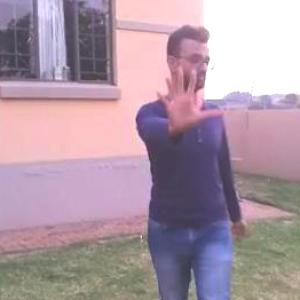follow_hand: (150, 58, 227, 132)
